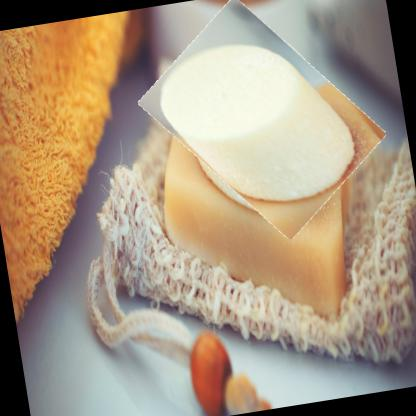soap: (149, 0, 376, 246)
